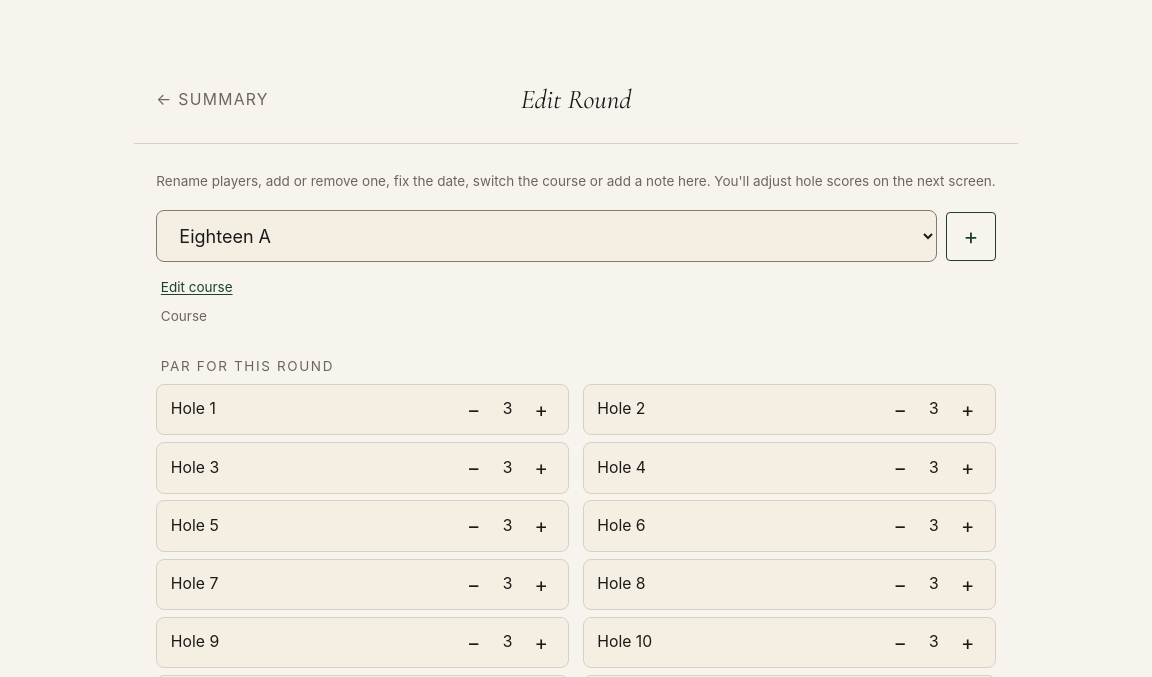
Test case: Setup - editing a round can now change its course/hole count (#56 reversed) › selecting a course with fewer holes than the round's highest scored hole shows a confirmation naming the holes at risk, and does not change the selected course
Select "Nine B" in the dropdown showing "Eighteen A": (547, 236) [156,210,937,262]
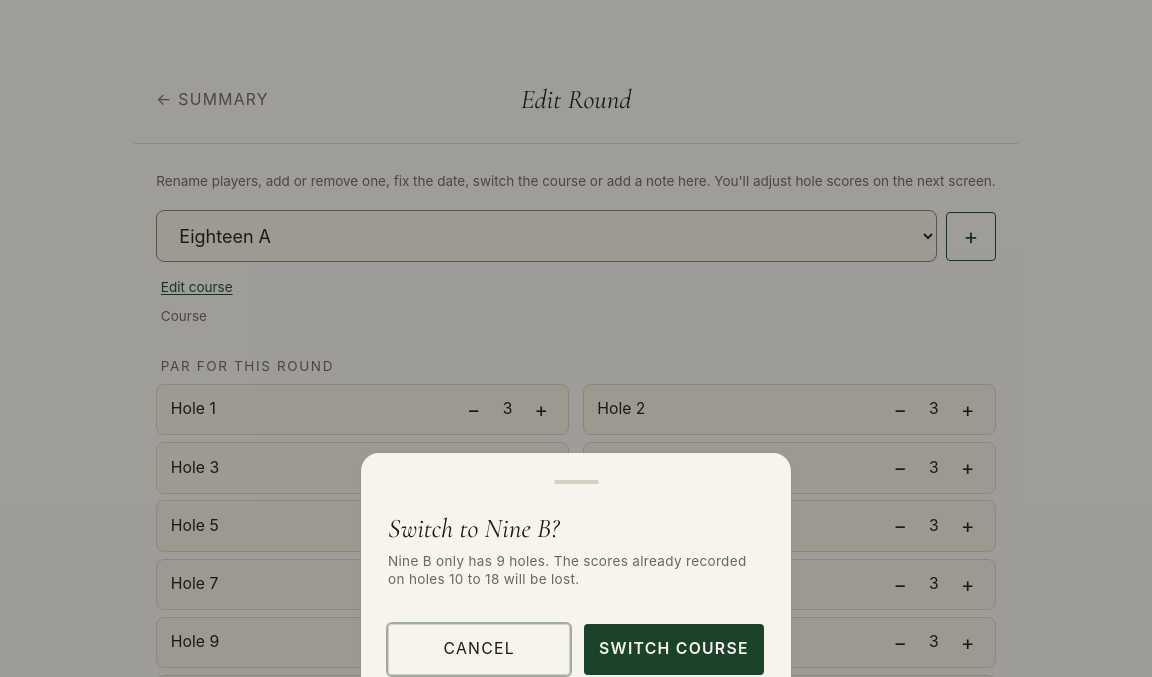
Now the text "holes 10 to 18" is shown, box [388,552,746,586]
